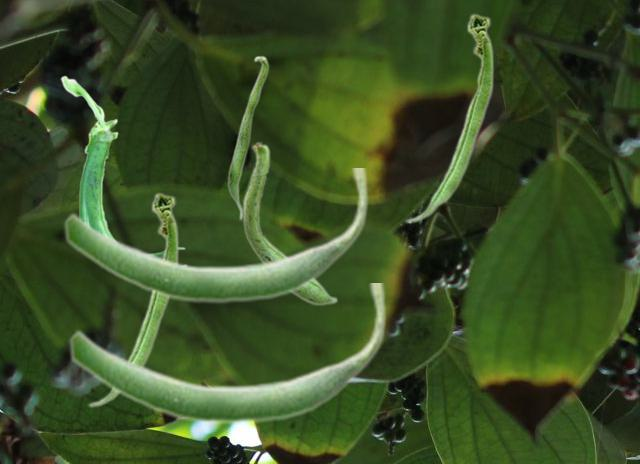french_bean: (68, 283, 386, 425), (63, 168, 368, 304), (60, 75, 186, 262), (87, 191, 178, 407), (404, 12, 493, 223), (242, 140, 337, 305), (227, 55, 268, 220)
